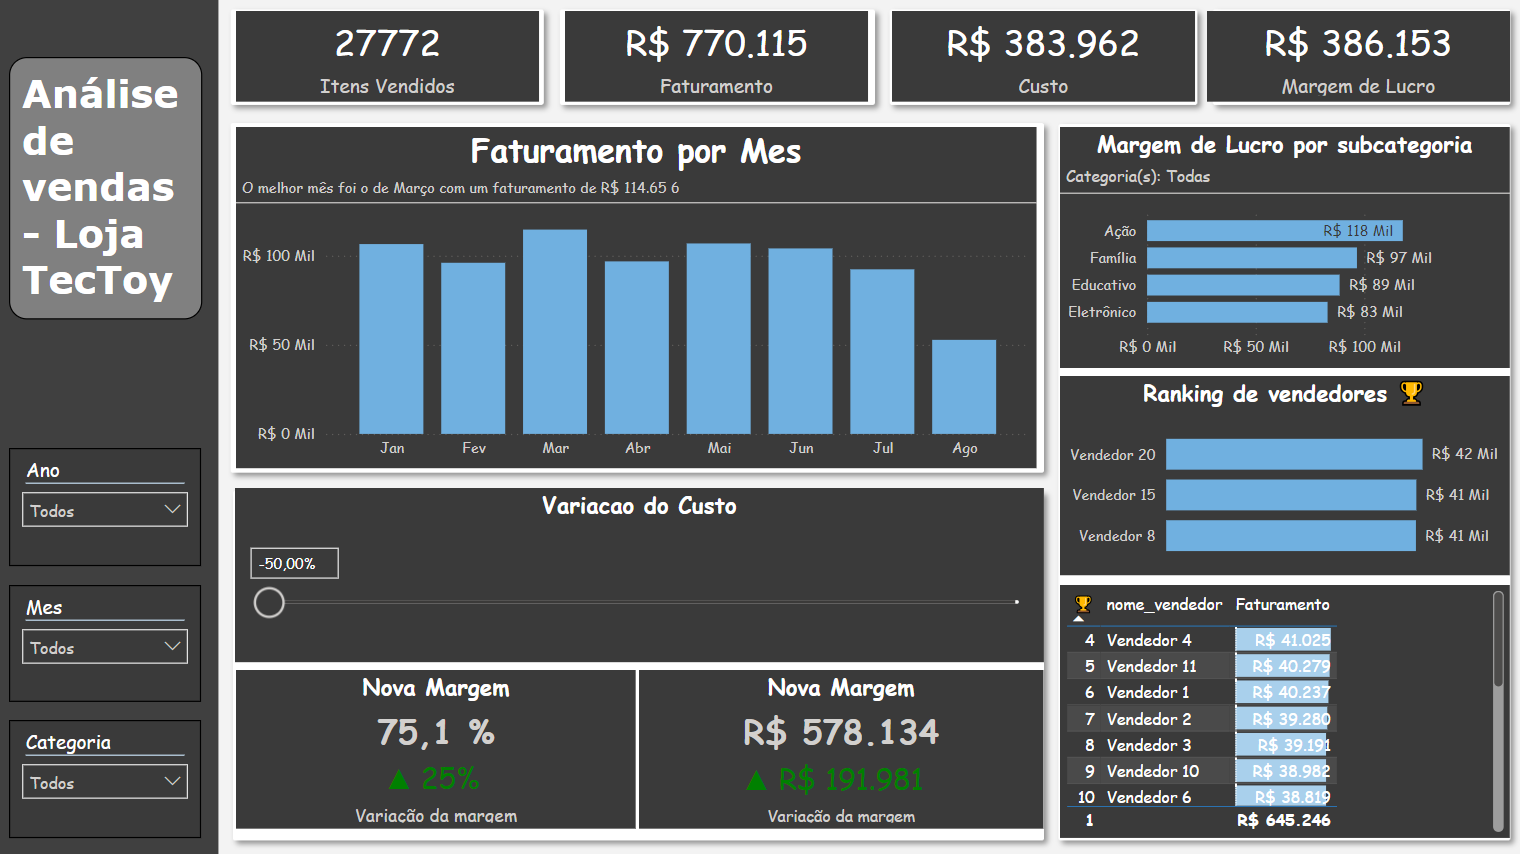

The page's visual inventory and layout, read from the dashboard file:
{"tool":"powerbi","page":{"name":"Página 1","canvas":[1280,720],"ordinal":0},"visuals":[{"type":"columnChart","title":"Faturamento por Mes","fields":{"Y":["Medidas.Faturamento"],"Category":["dCalendario.MesAbre"]},"box":[200.2,108.9,670.8,286.2],"z":1000},{"type":"barChart","fields":{"Y":["Medidas.Margem de Lucro"],"Category":["dProduto.subcategoria"]},"box":[891.2,108.9,376.7,202],"z":2000},{"type":"slicer","fields":{"Values":["dCalendario.Ano"]},"box":[9.7,378.4,160.7,99.2],"z":3000},{"type":"slicer","fields":{"Values":["dCalendario.NomeMes"]},"box":[9.7,492.6,160.7,98.3],"z":4000},{"type":"slicer","fields":{"Values":["dProduto.categoria"]},"box":[9.7,605.9,160.7,99.2],"z":5000},{"type":"barChart","title":"Ranking de vendedores 🏆","fields":{"Y":["Medidas.Faturamento"],"Category":["dVendedor.nome_vendedor"]},"box":[891.2,317.9,376.7,166.8],"z":6000},{"type":"tableEx","fields":{"Values":["Medidas.Rank Vendedor","dVendedor.nome_vendedor","Medidas.Faturamento"]},"box":[891.2,492.6,376.7,212.5],"z":7000},{"type":"slicer","title":"Variacao do Custo","fields":{"Values":["VarCusto.VarCusto"]},"box":[199.3,411.8,677.9,145.8],"z":8000},{"type":"card","title":"Nova Margem","fields":{"Values":["Medidas.WIF Margem Variação"]},"box":[538.2,563.7,338.9,133.5],"z":9000},{"type":"card","title":"Nova Margem","fields":{"Values":["Medidas.WIF Margem % Variação"]},"box":[200.2,563.7,335.4,133.5],"z":10000},{"type":"card","fields":{"Values":["Medidas.Itens Vendidos"]},"box":[200.2,11.4,253.8,76.4],"z":10001},{"type":"card","fields":{"Values":["Medidas.Faturamento"]},"box":[475.9,11.4,253.8,76.4],"z":10002},{"type":"card","fields":{"Values":["Medidas.Custo"]},"box":[749.9,11.4,253.8,76.4],"z":10003},{"type":"card","fields":{"Values":["Medidas.Margem de Lucro"]},"box":[1014.1,11.4,253.8,76.4],"z":10004},{"type":"textbox","box":[9.7,50,161.6,219.5],"z":10005}]}

Visuals, with their boxes in screenshot pixels (x1, y1, x2, y2), scaled from the page's 1280x720 canvas onto the 1520x854 screenshot:
"Faturamento por Mes" columnChart: BBox(238, 129, 1034, 469)
barChart - Medidas.Margem de Lucro x dProduto.subcategoria: BBox(1058, 129, 1506, 369)
slicer - dCalendario.Ano: BBox(12, 449, 202, 566)
slicer - dCalendario.NomeMes: BBox(12, 584, 202, 701)
slicer - dProduto.categoria: BBox(12, 719, 202, 836)
"Ranking de vendedores 🏆" barChart: BBox(1058, 377, 1506, 575)
tableEx - Medidas.Rank Vendedor x dVendedor.nome_vendedor: BBox(1058, 584, 1506, 836)
"Variacao do Custo" slicer: BBox(237, 488, 1042, 661)
"Nova Margem" card: BBox(639, 669, 1042, 827)
"Nova Margem" card: BBox(238, 669, 636, 827)
card - Medidas.Itens Vendidos: BBox(238, 14, 539, 104)
card - Medidas.Faturamento: BBox(565, 14, 867, 104)
card - Medidas.Custo: BBox(891, 14, 1192, 104)
card - Medidas.Margem de Lucro: BBox(1204, 14, 1506, 104)
textbox: BBox(12, 59, 203, 320)
